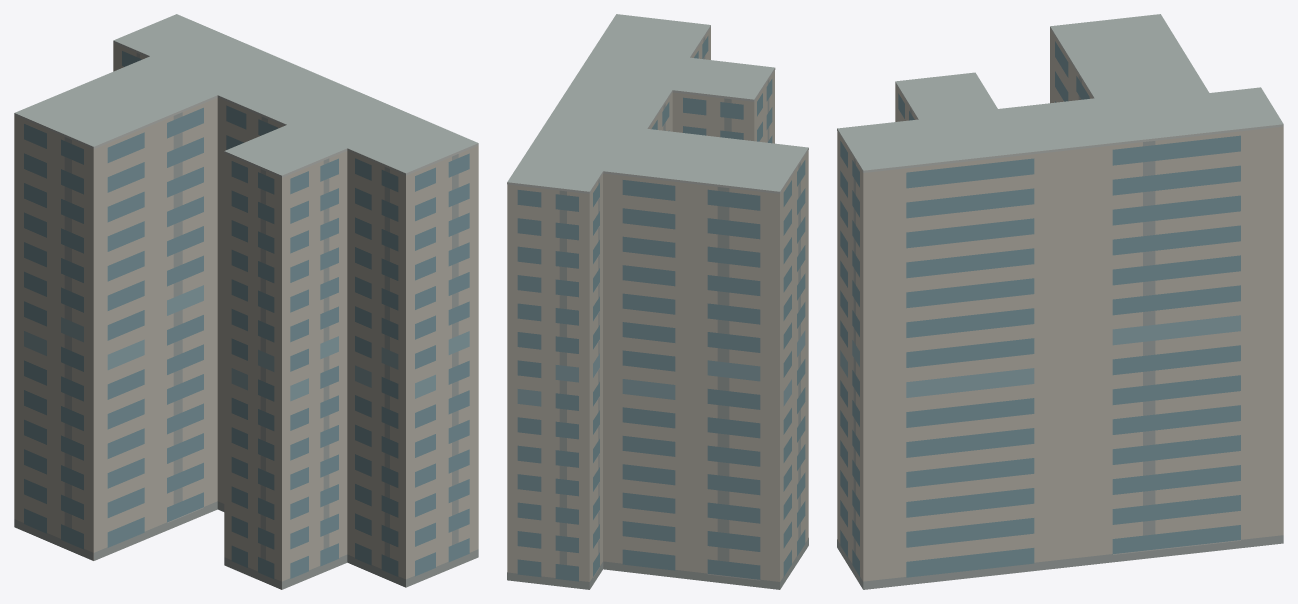
File: residential-e6bf4e53-ea5c-4bcf-ad95-bb20299d5dd7.glb
The picture shows the model from 3 angles, left to right: view 1: azimuth 30°, elevation 25°; view 2: azimuth 150°, elevation 25°; view 3: azimuth 270°, elevation 25°; orthographic projection. The views are drawn at different scales.
Visible parts, largest first — view 1: residential-e6bf4e53-ea5c-4bcf-ad95-bb20299d5dd7.tmp; view 2: residential-e6bf4e53-ea5c-4bcf-ad95-bb20299d5dd7.tmp; view 3: residential-e6bf4e53-ea5c-4bcf-ad95-bb20299d5dd7.tmp.
Part boxes in pixels (x1,y1,x2,y2): residential-e6bf4e53-ea5c-4bcf-ad95-bb20299d5dd7.tmp: (14, 14, 478, 589); residential-e6bf4e53-ea5c-4bcf-ad95-bb20299d5dd7.tmp: (507, 14, 808, 589); residential-e6bf4e53-ea5c-4bcf-ad95-bb20299d5dd7.tmp: (837, 14, 1283, 589).
Size of the model in its own units: 34.48 by 43 by 41.52.
